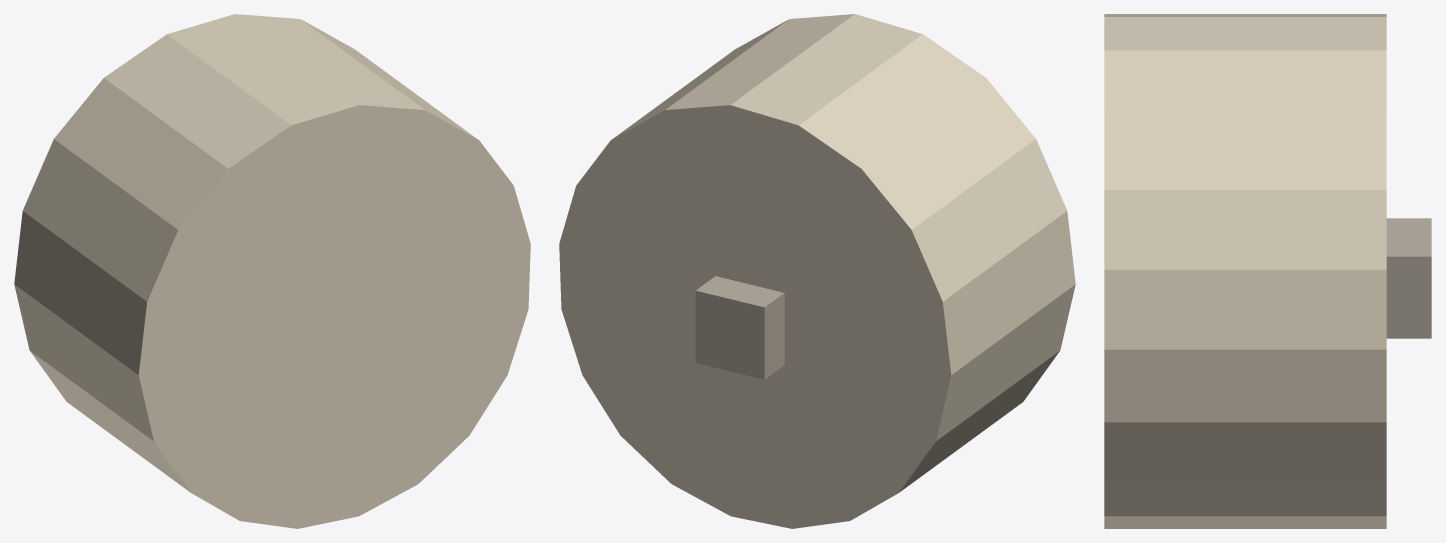
File: historic-palestine-09_14_3507_3084.glb
The picture shows the model from 3 angles, left to right: view 1: azimuth 30°, elevation 25°; view 2: azimuth 150°, elevation 25°; view 3: azimuth 270°, elevation 25°; orthographic projection. The views are drawn at different scales.
Visible parts, largest first — view 1: Building_; view 2: Building_, Roof access hut; view 3: Building_, Roof access hut.
Part boxes in pixels (<box>): Building_: <box>14,14,530,528</box>; Building_: <box>559,14,1075,528</box>; Roof access hut: <box>695,276,784,379</box>; Building_: <box>1104,14,1386,528</box>; Roof access hut: <box>1386,218,1431,338</box>.
Bounding box in the file's own units: 13.64 × 13.67 × 8.7.
